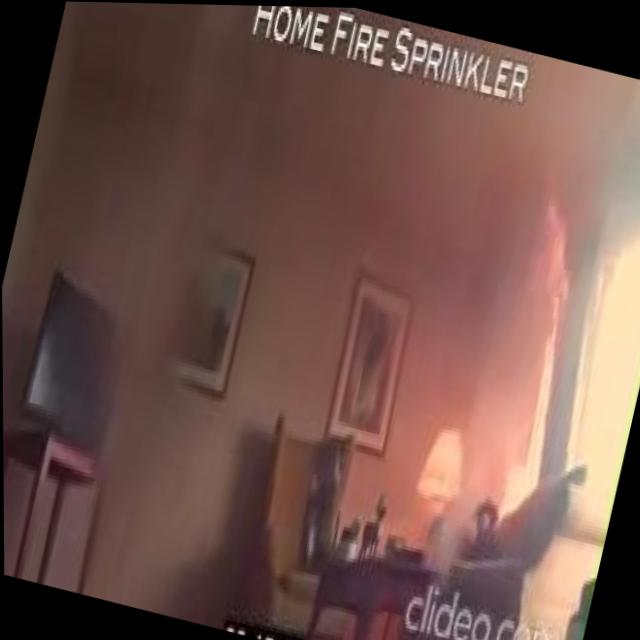fire: (472, 189, 601, 513)
